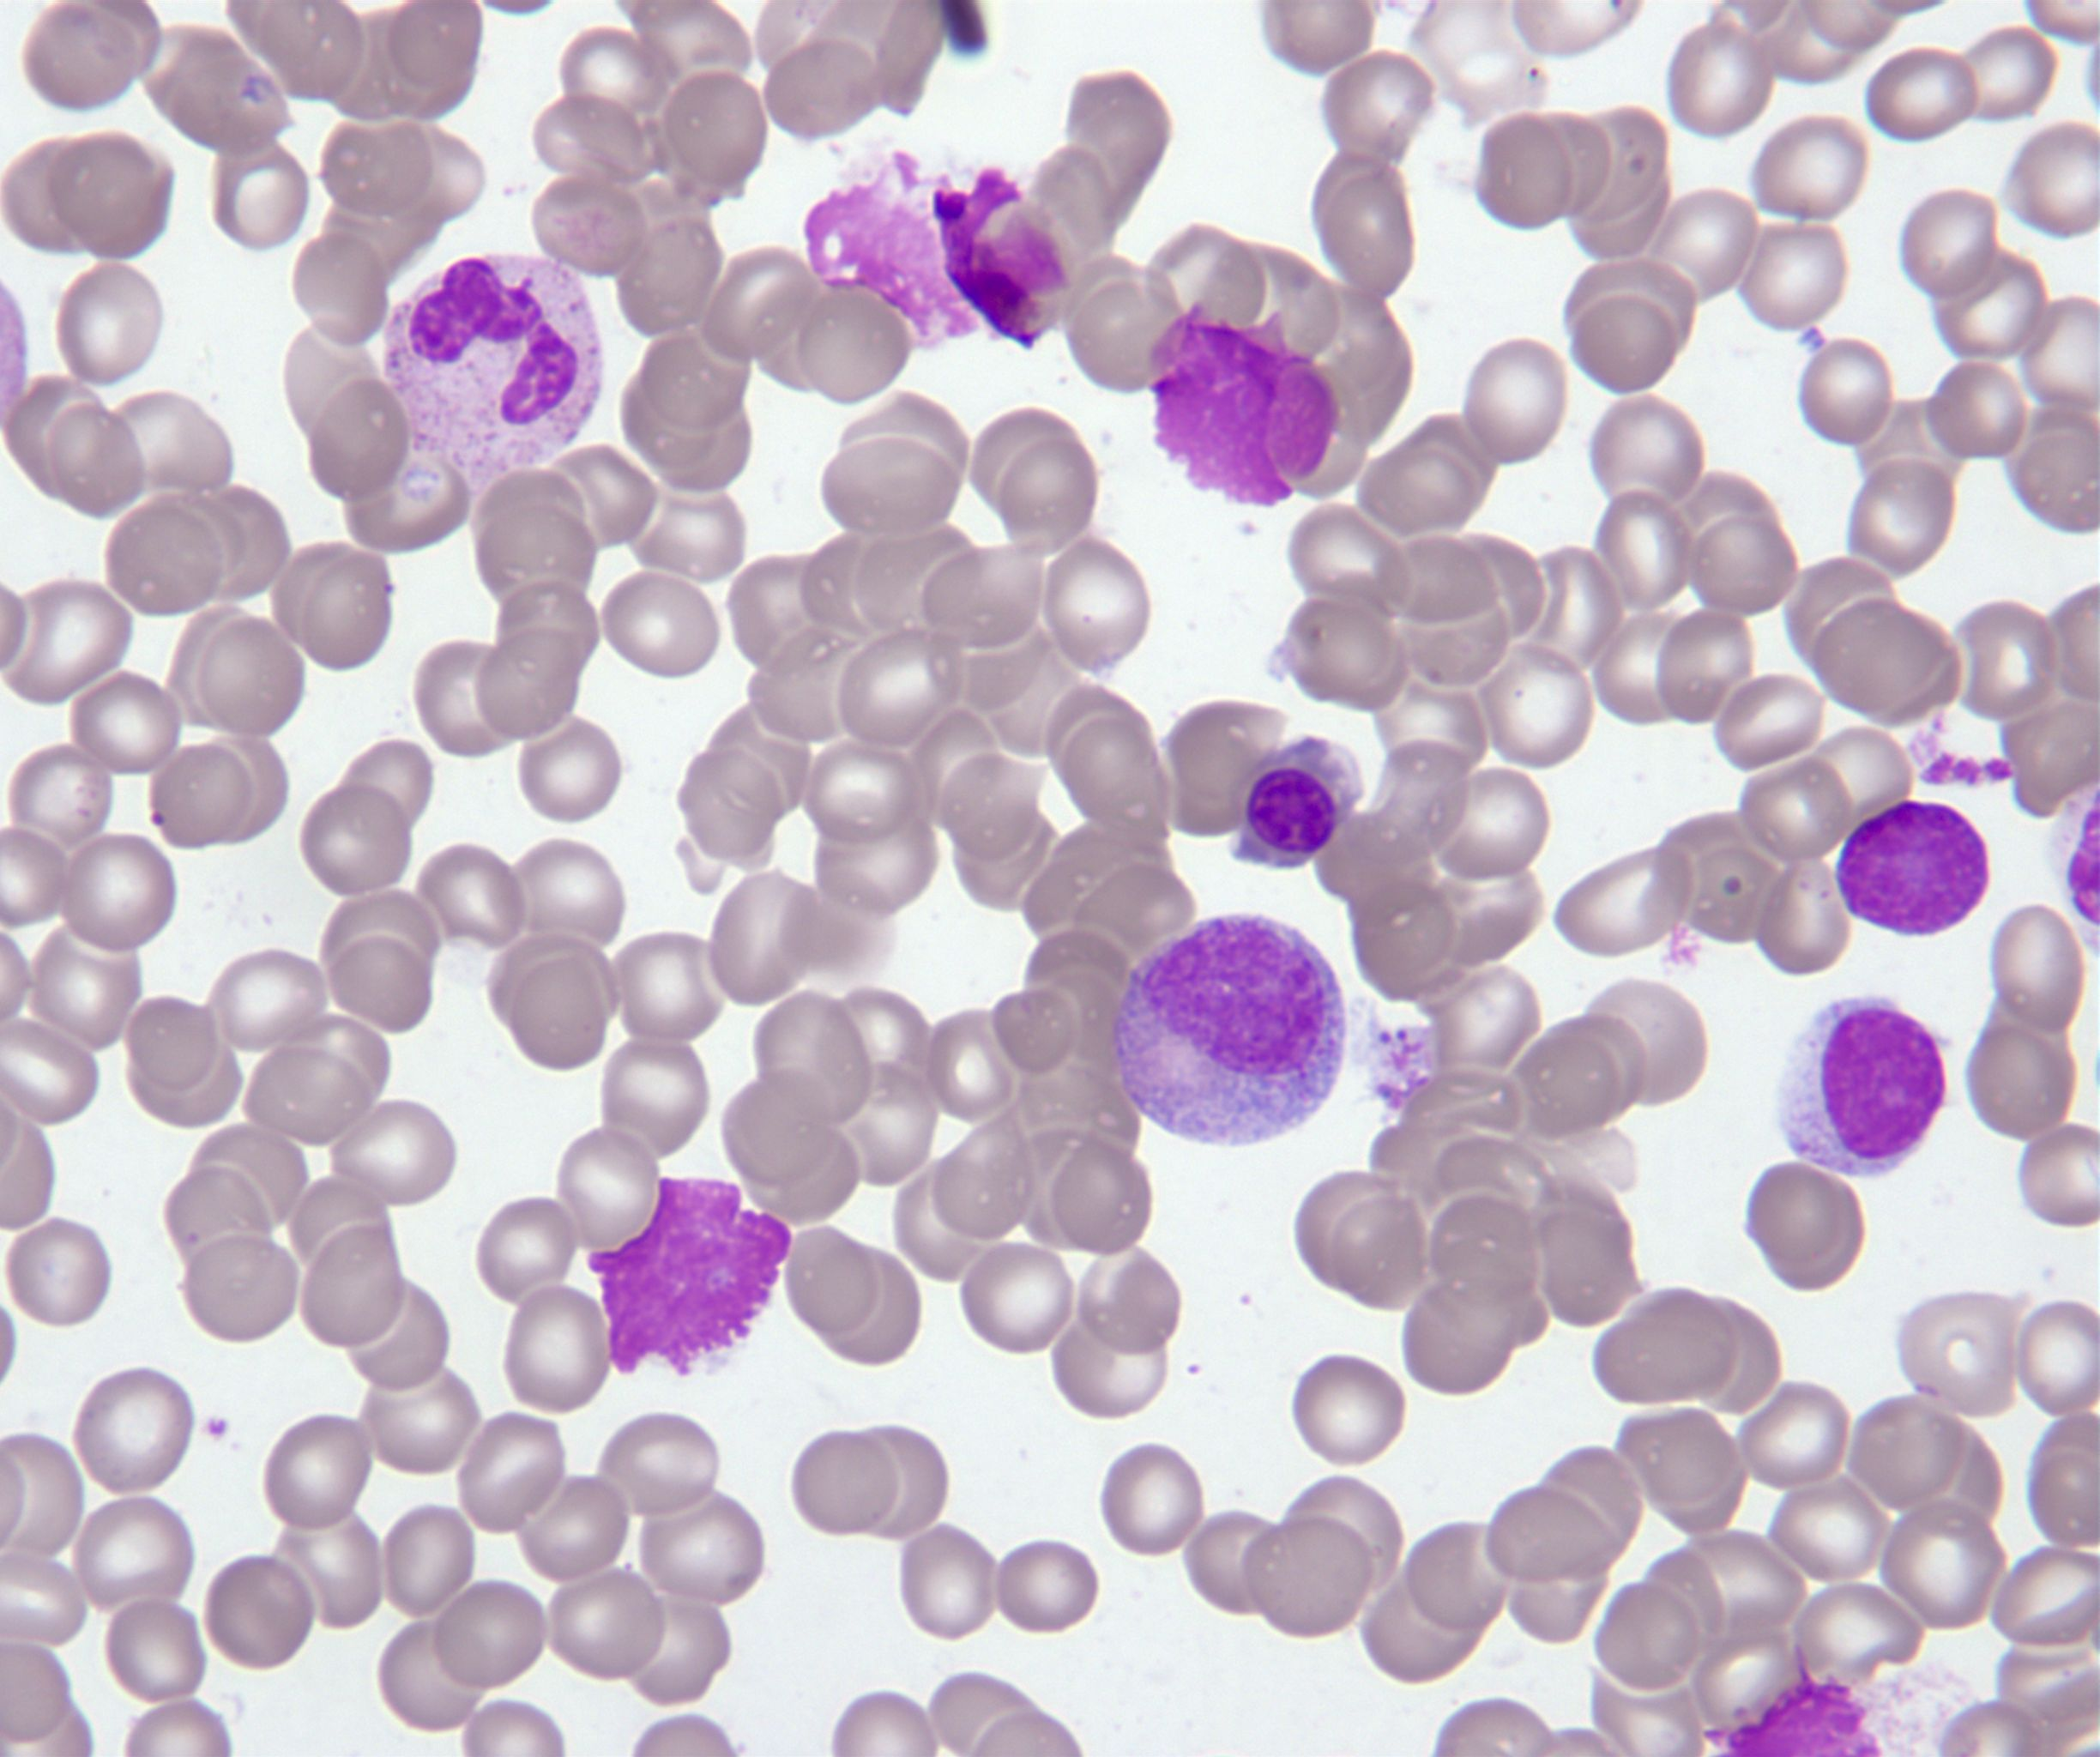24: (1221, 726, 1369, 878)
3: (1109, 907, 1352, 1155)
32: (1770, 993, 1950, 1185)
5: (375, 246, 609, 492)
x: (586, 1171, 802, 1384), (1833, 797, 1992, 939)
